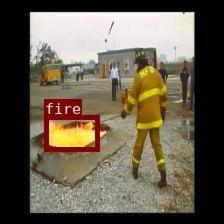fire: (43, 114, 99, 150)
